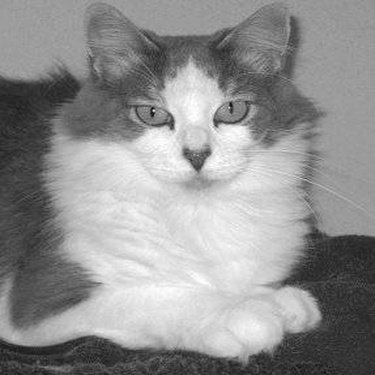cat: (1, 6, 322, 343)
